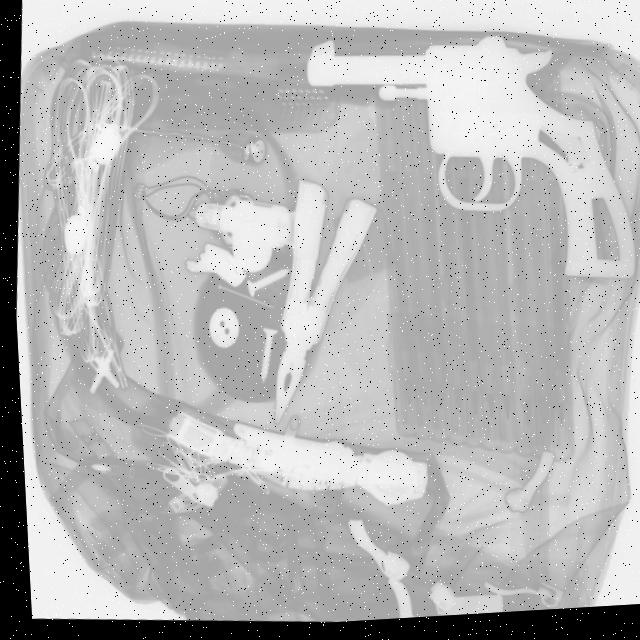pistol: (286, 22, 640, 307)
